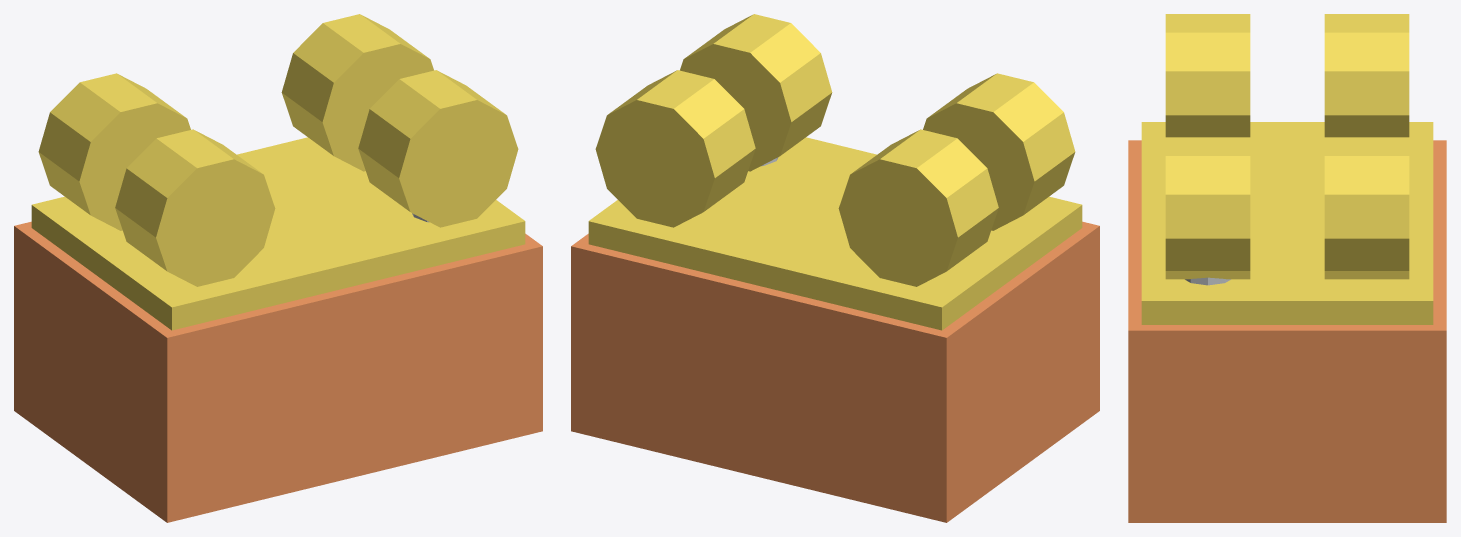
Rendered from skate-park-and-street-sports-spare-wheels-and-bearings-fca8b6ee__33540.glb.
3 views of the same model, side by side, from view 1: azimuth 30°, elevation 25°; view 2: azimuth 150°, elevation 25°; view 3: azimuth 270°, elevation 25° (orthographic). The views are drawn at different scales.
Visible parts, largest first — view 1: spare-wheels-and-bearings-box-sunset, spare-wheels-and-bearings-box-canary; view 2: spare-wheels-and-bearings-box-sunset, spare-wheels-and-bearings-box-canary; view 3: spare-wheels-and-bearings-box-canary, spare-wheels-and-bearings-box-sunset.
Part boxes in pixels (x1=…): spare-wheels-and-bearings-box-sunset: x1=14, y1=221, x2=542, y2=522; spare-wheels-and-bearings-box-canary: x1=31, y1=14, x2=525, y2=330; spare-wheels-and-bearings-box-sunset: x1=571, y1=221, x2=1099, y2=522; spare-wheels-and-bearings-box-canary: x1=588, y1=14, x2=1082, y2=330; spare-wheels-and-bearings-box-canary: x1=1141, y1=14, x2=1433, y2=324; spare-wheels-and-bearings-box-sunset: x1=1128, y1=140, x2=1446, y2=522.
Bounding box in the file's own units: 0.17 × 0.1427 × 0.12.
